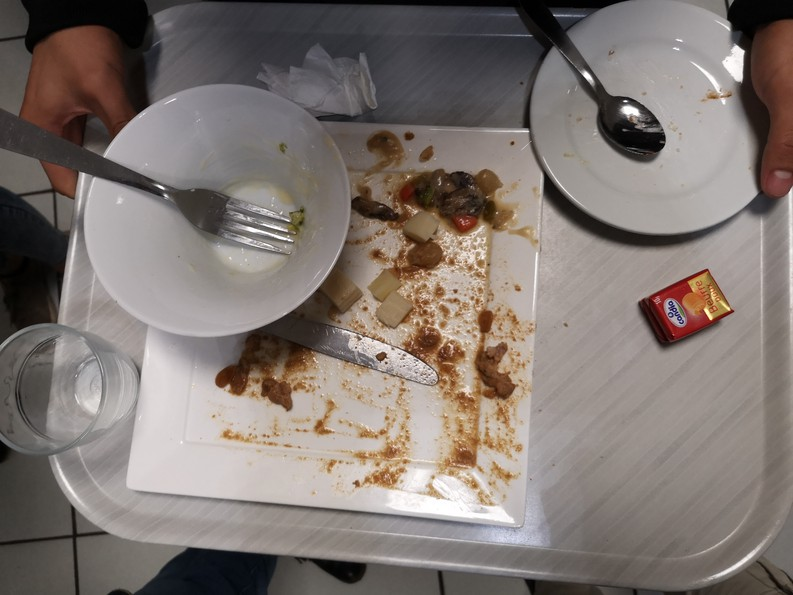cup: (1, 333, 138, 488)
cutlery: (1, 110, 291, 255), (519, 1, 664, 158), (259, 305, 443, 388)
orga: (372, 160, 516, 271), (326, 257, 413, 330)
trash: (248, 41, 392, 127), (632, 263, 738, 352)
